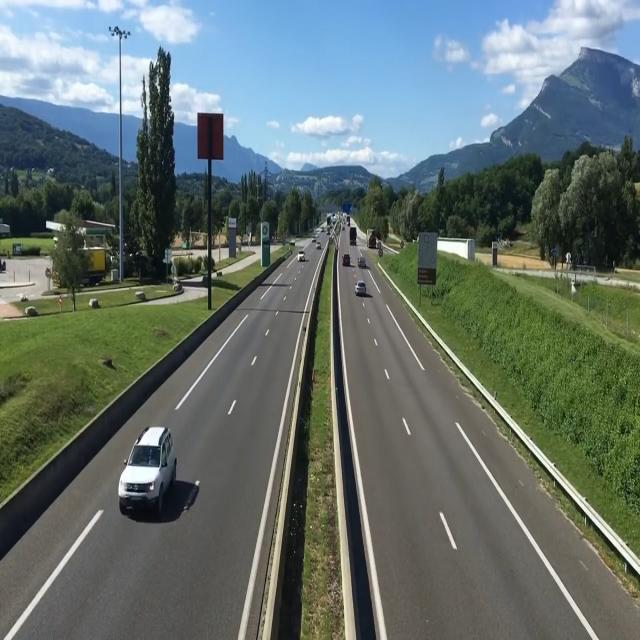car: (120, 424, 182, 528), (353, 277, 369, 301), (342, 247, 352, 269), (297, 246, 307, 265), (357, 254, 368, 270)
truck: (366, 226, 378, 251), (348, 226, 360, 251)
